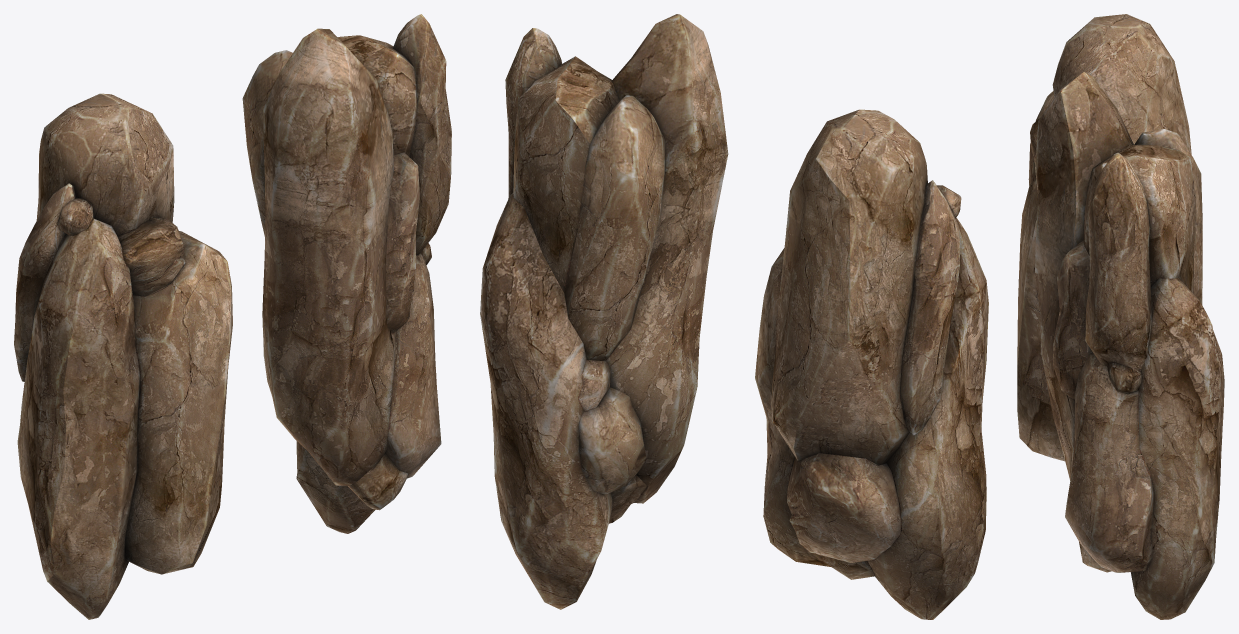
File: BSwap_RockForms_01.fbx
The picture shows the model from 3 angles, left to right: view 1: azimuth 30°, elevation 25°; view 2: azimuth 150°, elevation 25°; view 3: azimuth 270°, elevation 25°; orthographic projection. The views are drawn at different scales.
Parts seen in each view (by area): view 1: RockForm02_LP, RockForm01_LP; view 2: RockForm01_LP, RockForm02_LP; view 3: RockForm01_LP, RockForm02_LP.
Boxes of the visible parts, x1,y1,x2,y2 form: RockForm02_LP: (14,93,232,619); RockForm01_LP: (242,14,451,533); RockForm01_LP: (480,14,728,609); RockForm02_LP: (755,109,988,619); RockForm01_LP: (1035,72,1224,619); RockForm02_LP: (1017,14,1191,461).
Bounding box in the file's own units: 726 × 883 × 321.
